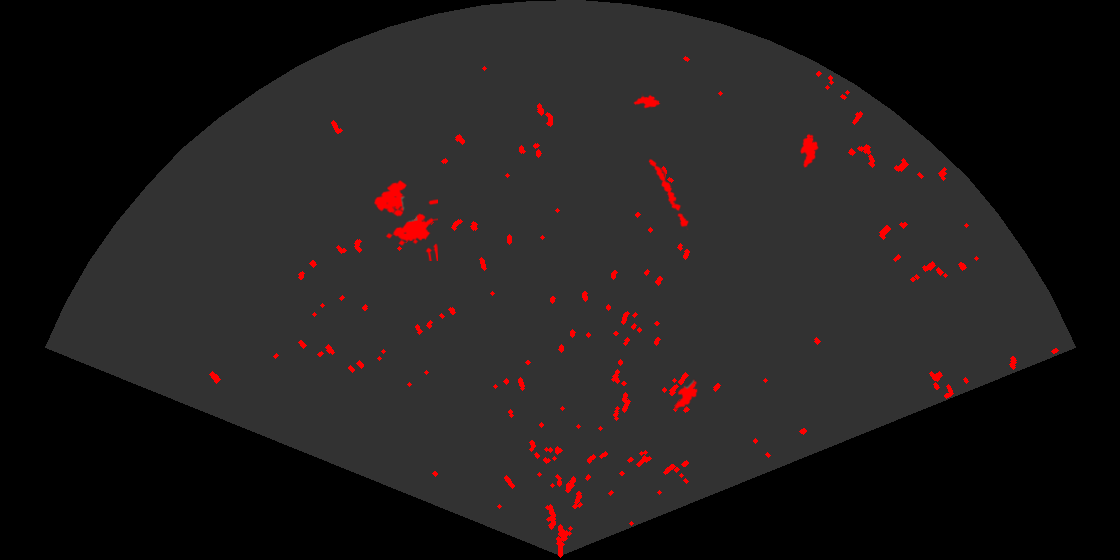AUV: (673, 378, 699, 411), (798, 132, 820, 169), (632, 92, 662, 110)
cage: (373, 179, 438, 261)
chain: (647, 157, 690, 230)
